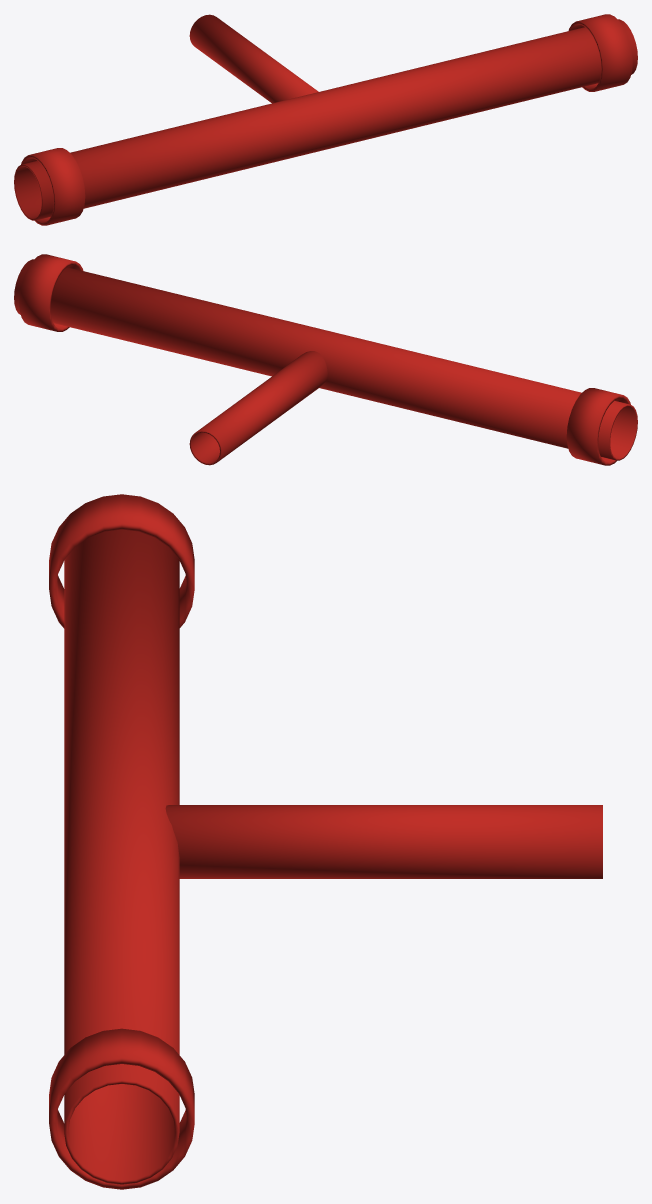
Rendered from SM_WS_FirePipeTee.fbx.
3 renders of one model, top to bottom at view 1: azimuth 30°, elevation 25°; view 2: azimuth 150°, elevation 25°; view 3: azimuth 270°, elevation 25°, orthographic. The views are drawn at different scales.
Visible parts, largest first — view 1: SM_WS_FirePipeTee; view 2: SM_WS_FirePipeTee; view 3: SM_WS_FirePipeTee.
Boxes of the visible parts, <box> form: SM_WS_FirePipeTee: <box>14,14,637,225</box>; SM_WS_FirePipeTee: <box>14,254,637,465</box>; SM_WS_FirePipeTee: <box>49,494,602,1189</box>.
Size of the model in its own units: 1 by 0.403 by 0.106.
